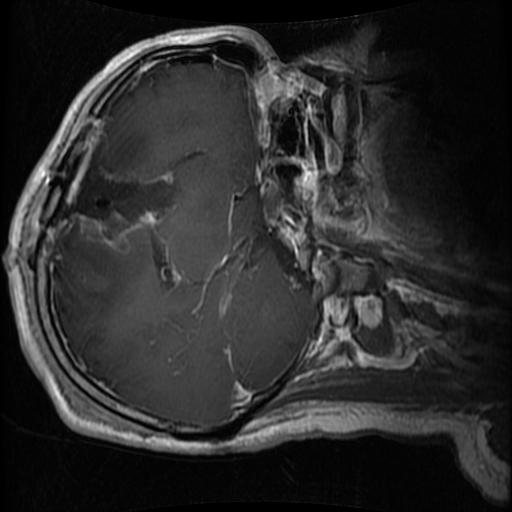glioma: (48, 118, 180, 298)
